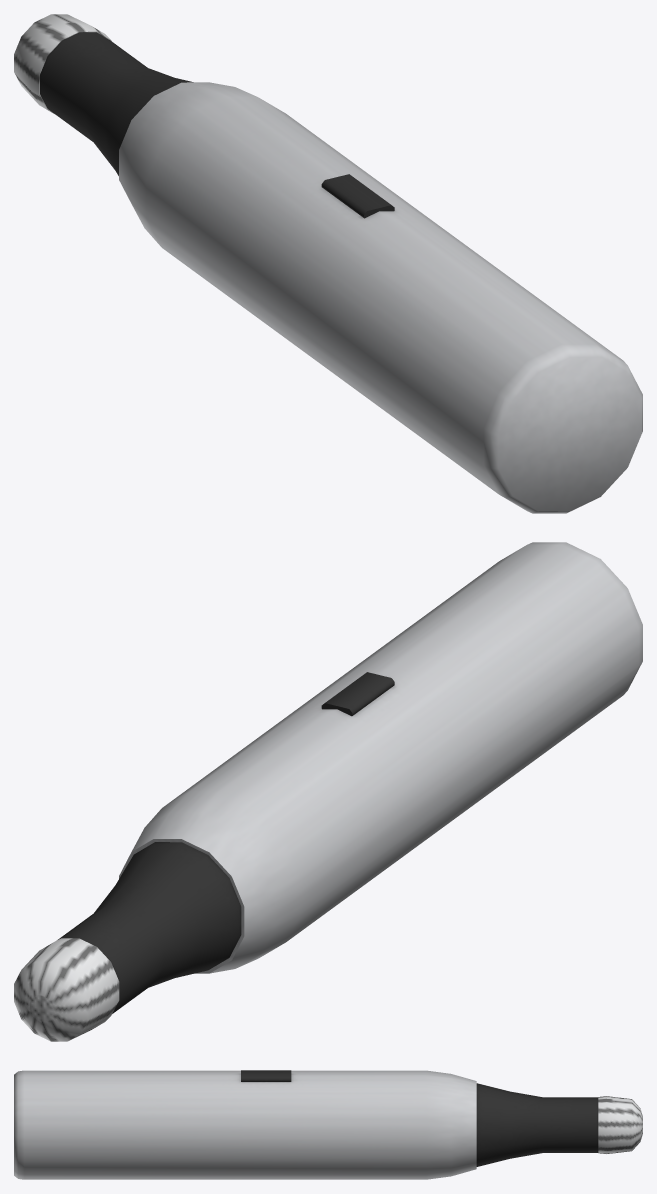
Rendered from nose_hair_trimmer.glb.
3 views of the same model, one above another, from view 1: azimuth 30°, elevation 25°; view 2: azimuth 150°, elevation 25°; view 3: azimuth 270°, elevation 25° (orthographic). The views are drawn at different scales.
Visible parts, largest first — view 1: d7_nose_hair_trimmer; view 2: d7_nose_hair_trimmer; view 3: d7_nose_hair_trimmer.
Part boxes in pixels (left/top/right/bottom): d7_nose_hair_trimmer: left=14, top=14, right=642, bottom=513; d7_nose_hair_trimmer: left=14, top=542, right=642, bottom=1041; d7_nose_hair_trimmer: left=14, top=1070, right=642, bottom=1179.
Bounding box in the file's own units: 0.0253 × 0.0265 × 0.1496.
1 material, 1 textured.
